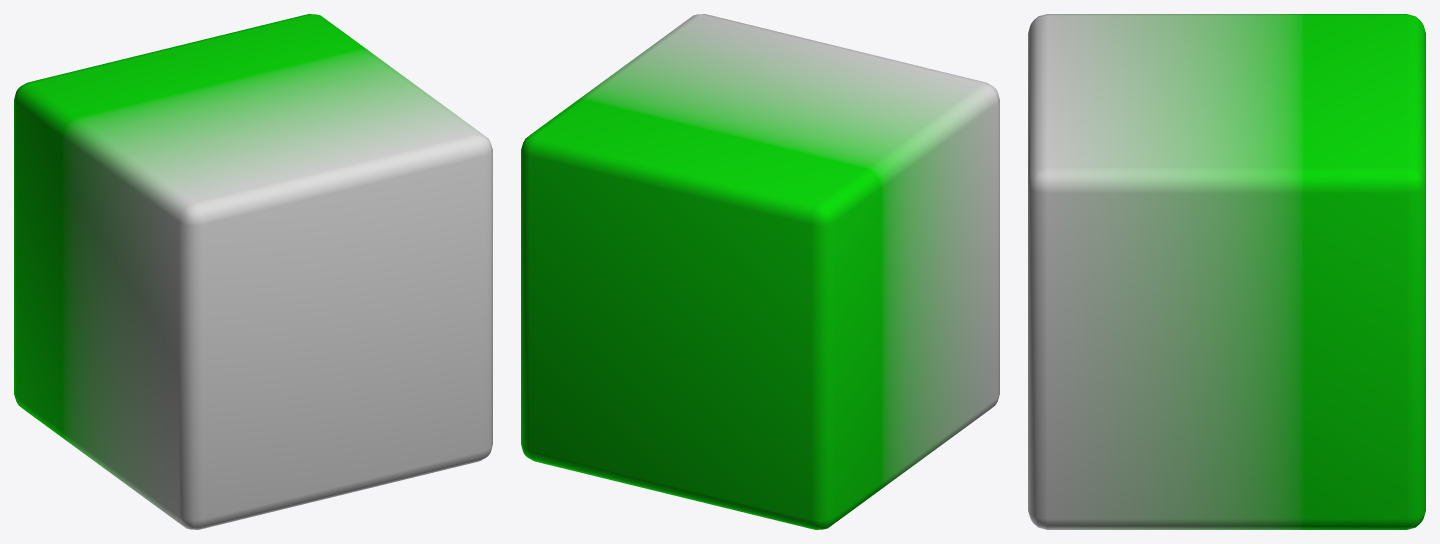
File: SmoothCube.fbx
3 views of the same model, side by side, from view 1: azimuth 30°, elevation 25°; view 2: azimuth 150°, elevation 25°; view 3: azimuth 270°, elevation 25° (orthographic). The views are drawn at different scales.
Parts seen in each view (by area): view 1: Cube; view 2: Cube; view 3: Cube.
Boxes of the visible parts, x1,y1,x2,y2 form: Cube: [14, 14, 492, 529]; Cube: [521, 14, 999, 529]; Cube: [1028, 14, 1425, 529].
Bounding box in the file's own units: 100 × 100 × 100.
